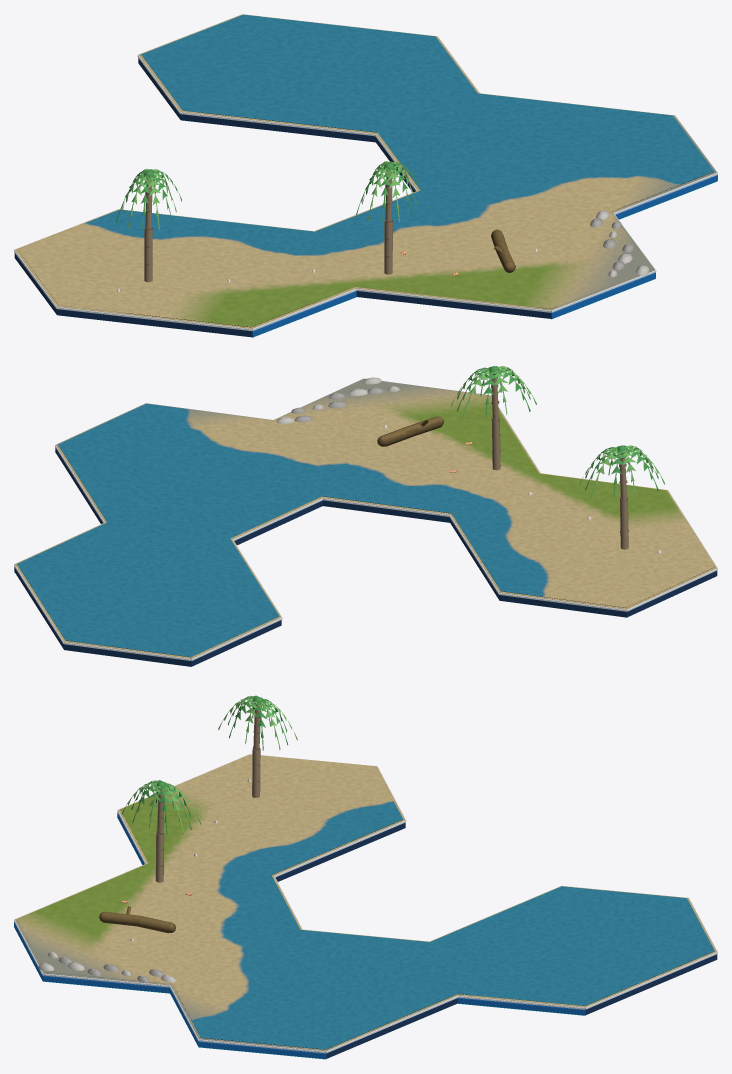
File: field_cm09_01.glb
3 views of the same model, one above another, from view 1: azimuth 30°, elevation 25°; view 2: azimuth 150°, elevation 25°; view 3: azimuth 270°, elevation 25° (orthographic). The views are drawn at different scales.
Parts seen in each view (by area): view 1: field_cm09_01-authored-coast; view 2: field_cm09_01-authored-coast; view 3: field_cm09_01-authored-coast.
Boxes of the visible parts, bbox=[...] form: field_cm09_01-authored-coast: bbox=[14, 14, 717, 337]; field_cm09_01-authored-coast: bbox=[14, 366, 717, 666]; field_cm09_01-authored-coast: bbox=[14, 695, 717, 1059].
Bounding box in the file's own units: 19.17 × 3.27 × 19.17.
Materials: 1 (1 with a texture image).
